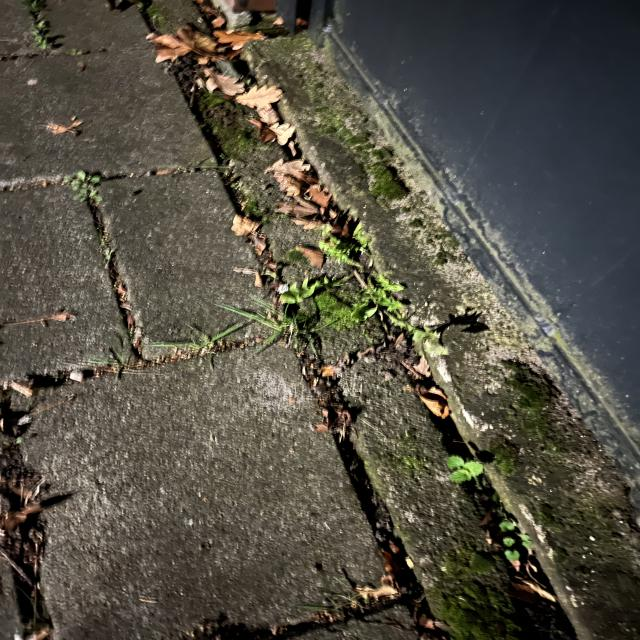leaves: (144, 26, 349, 234)
pavement: (0, 0, 488, 639)
plants: (491, 351, 565, 480)
weed: (314, 228, 428, 338)
weedling: (72, 50, 81, 55)
